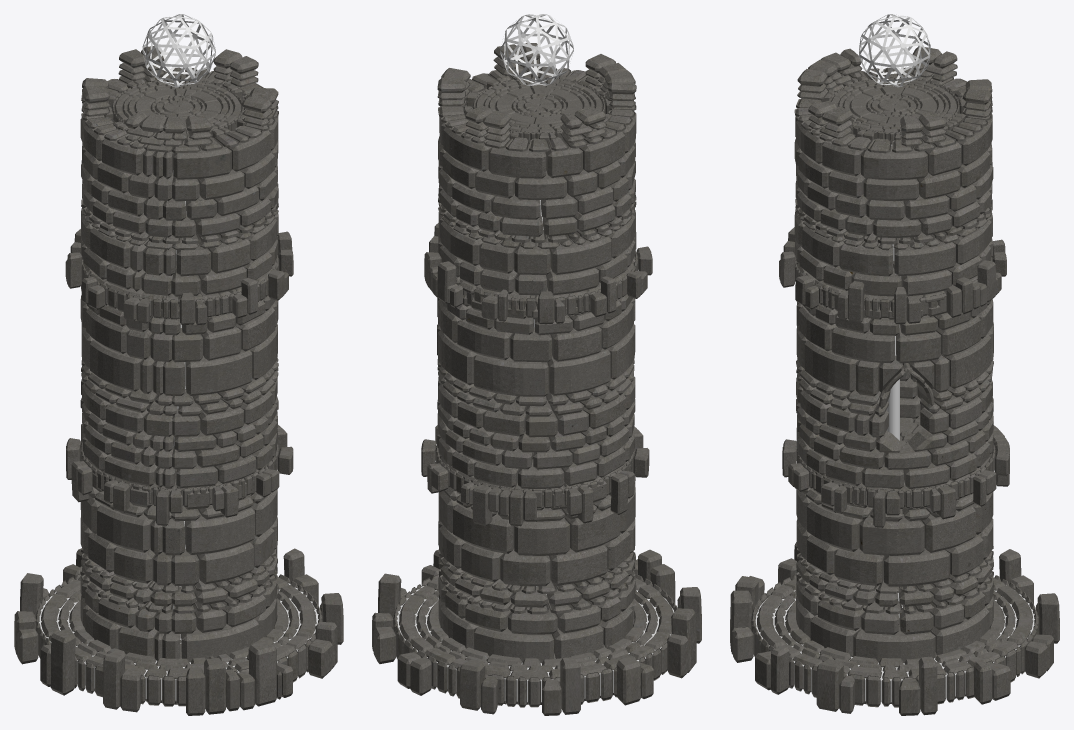
Rendered from tower 2.fbx.
3 views of the same model, side by side, from view 1: azimuth 30°, elevation 25°; view 2: azimuth 150°, elevation 25°; view 3: azimuth 270°, elevation 25° (orthographic).
Parts seen in each view (by area): view 1: Wall.014, Wall.016, Wall.015, Wall.011, Wall.003, Wall.004, Wall.001, Icosphere.001, Circle.003; view 2: Wall.014, Wall.016, Wall.015, Wall.011, Wall.004, Wall.003, Wall.001, Icosphere.001, Circle.003; view 3: Wall.014, Wall.016, Wall.015, Wall.011, Wall.004, Wall.003, Wall.001, Icosphere.001, Circle.003, Cylinder.001.
Boxes of the visible parts, bbox=[...] form: Wall.014: bbox=[80, 46, 278, 305]; Wall.016: bbox=[80, 283, 278, 488]; Wall.015: bbox=[80, 451, 277, 661]; Wall.011: bbox=[14, 548, 343, 715]; Wall.003: bbox=[65, 229, 293, 324]; Wall.004: bbox=[66, 424, 293, 525]; Wall.001: bbox=[104, 74, 246, 140]; Icosphere.001: bbox=[142, 14, 215, 87]; Circle.003: bbox=[39, 579, 318, 700]; Wall.014: bbox=[437, 43, 636, 305]; Wall.016: bbox=[437, 292, 635, 488]; Wall.015: bbox=[438, 449, 635, 662]; Wall.011: bbox=[372, 549, 701, 715]; Wall.004: bbox=[421, 425, 649, 526]; Wall.003: bbox=[424, 223, 652, 324]; Wall.001: bbox=[463, 73, 614, 152]; Icosphere.001: bbox=[500, 14, 573, 85]; Circle.003: bbox=[396, 585, 674, 702]; Wall.014: bbox=[794, 47, 993, 305]; Wall.016: bbox=[796, 298, 993, 489]; Wall.015: bbox=[796, 419, 993, 662]; Wall.011: bbox=[730, 542, 1059, 715]; Wall.004: bbox=[782, 415, 1009, 527]; Wall.003: bbox=[779, 227, 1006, 324]; Wall.001: bbox=[821, 74, 965, 144]; Icosphere.001: bbox=[859, 14, 930, 87]; Circle.003: bbox=[755, 585, 1034, 702]; Cylinder.001: bbox=[886, 144, 902, 617].
Size of the model in its own units: 2448 by 5171 by 2448.
